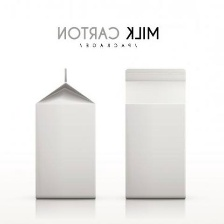carton: (30, 65, 100, 204), (120, 63, 189, 203)
